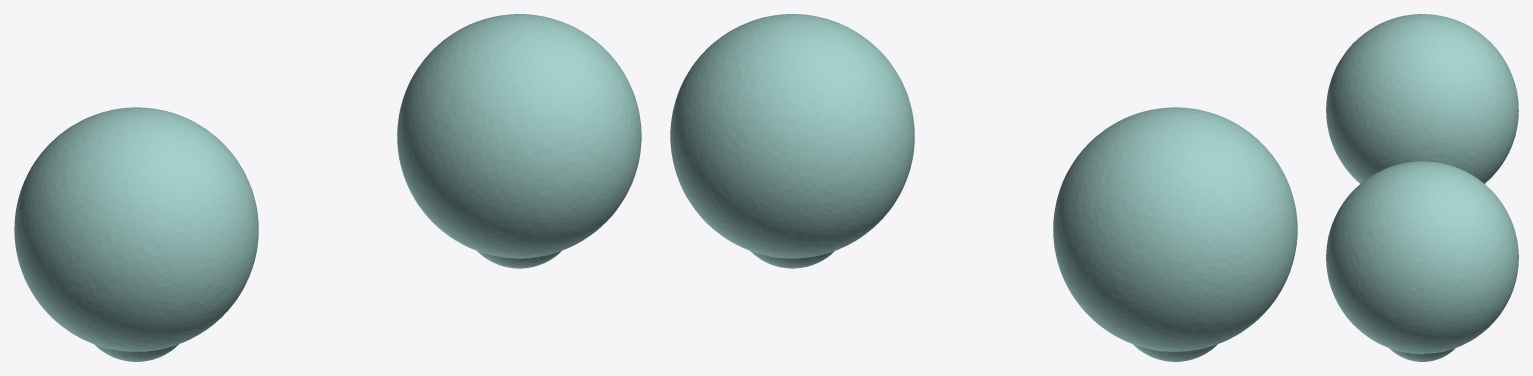
The model's file is oeil.glb.
3 renders of one model, left to right at view 1: azimuth 30°, elevation 25°; view 2: azimuth 150°, elevation 25°; view 3: azimuth 270°, elevation 25°, orthographic. The views are drawn at different scales.
Parts seen in each view (by area): view 1: FMA12513.stl; view 2: FMA12513.stl; view 3: FMA12513.stl.
Part boxes in pixels (left/top/right/bottom): FMA12513.stl: left=14, top=14, right=641, bottom=361; FMA12513.stl: left=670, top=14, right=1297, bottom=361; FMA12513.stl: left=1326, top=14, right=1518, bottom=361.
Size of the model in its own units: 2 by 0.7635 by 0.7126.
